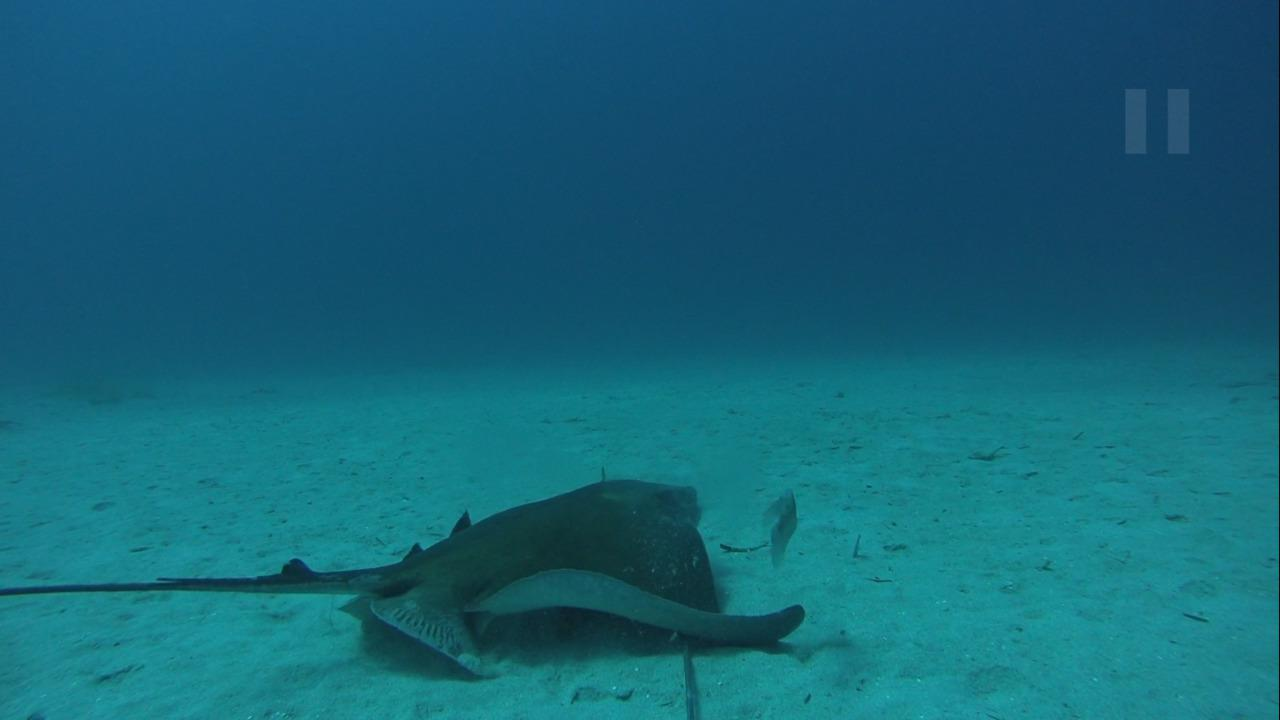raor: (755, 487, 808, 568)
